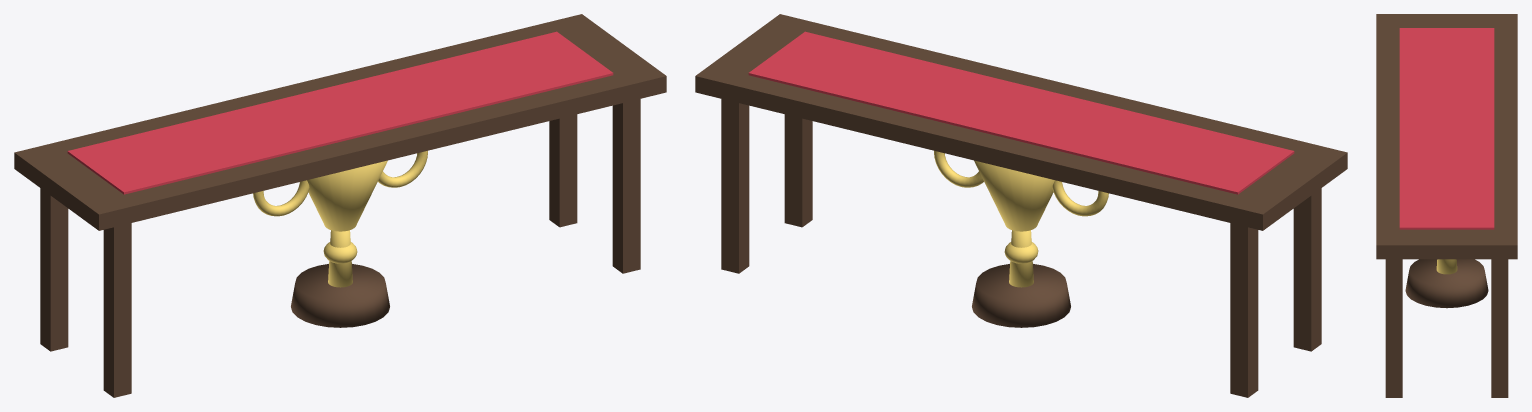
The model's file is trophy.glb.
3 renders of one model, left to right at view 1: azimuth 30°, elevation 25°; view 2: azimuth 150°, elevation 25°; view 3: azimuth 270°, elevation 25°, orthographic. The views are drawn at different scales.
Parts seen in each view (by area): view 1: Stand, Cup; view 2: Stand, Cup; view 3: Stand, Cup.
Part boxes in pixels (left/top/right/bottom): Stand: left=14, top=14, right=666, bottom=397; Cup: left=253, top=150, right=427, bottom=327; Stand: left=695, top=14, right=1347, bottom=397; Cup: left=934, top=150, right=1108, bottom=327; Stand: left=1376, top=14, right=1517, bottom=397; Cup: left=1405, top=259, right=1488, bottom=308.
Bounding box in the file's own units: 2.9 × 0.951 × 0.75.
